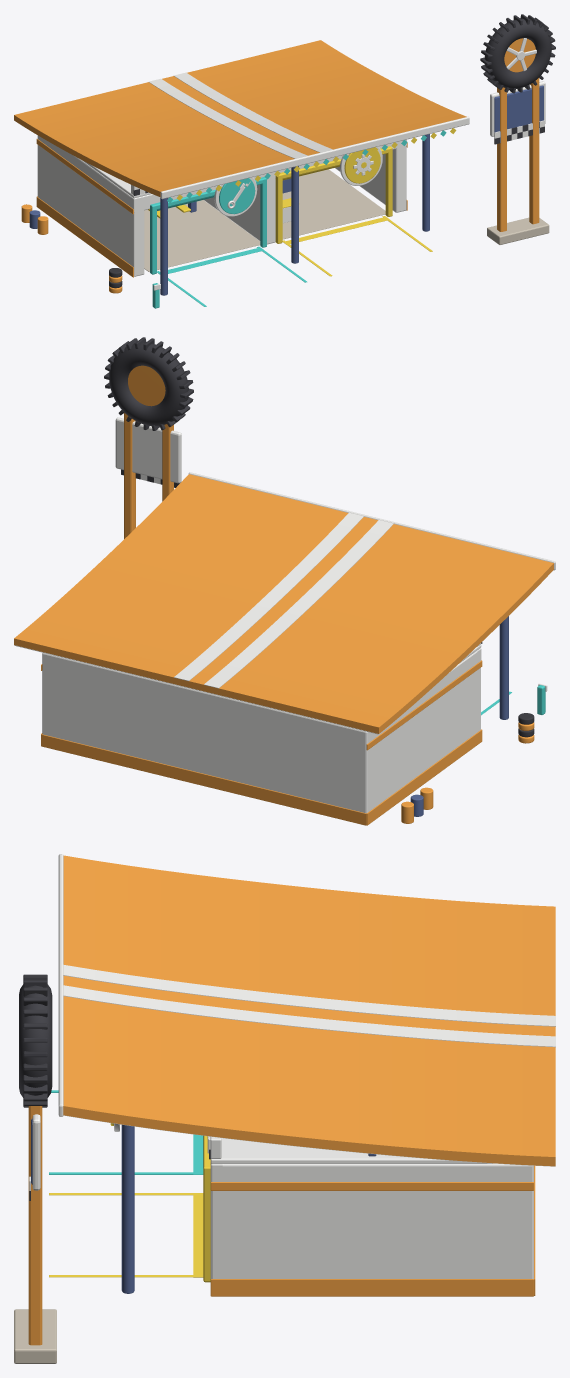
Rendered from pit_stop_2.fbx.
The picture shows the model from 3 angles, top to bottom: view 1: azimuth 30°, elevation 25°; view 2: azimuth 150°, elevation 25°; view 3: azimuth 270°, elevation 25°; orthographic projection. The views are drawn at different scales.
Parts seen in each view (by area): view 1: Visual, Spin_Y; view 2: Visual, Spin_Y; view 3: Visual, Spin_Y.
Boxes of the visible parts, x1,y1,x2,y2 form: Visual: [14, 40, 549, 308]; Spin_Y: [480, 14, 555, 93]; Visual: [14, 412, 555, 825]; Spin_Y: [104, 337, 193, 430]; Visual: [14, 854, 555, 1363]; Spin_Y: [19, 974, 52, 1107].
Size of what is drawn, in the model's own units: 2869 by 1487 by 2011.
